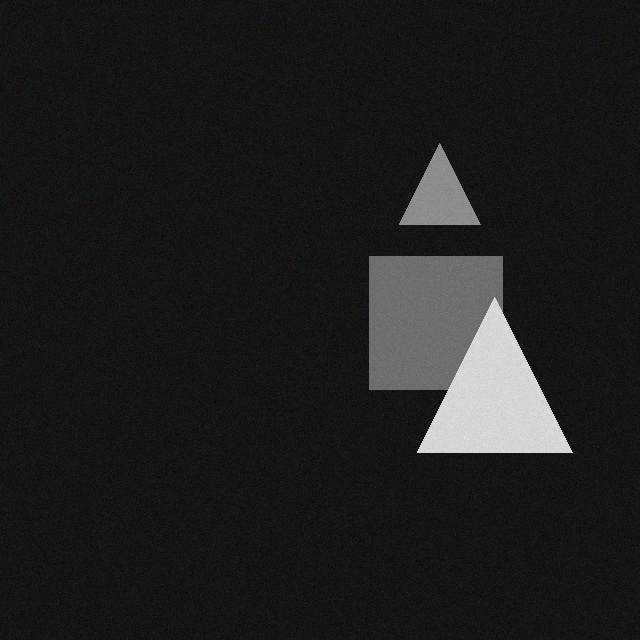square: (376, 256, 509, 389)
triangle: (424, 297, 579, 452), (406, 143, 487, 224)
